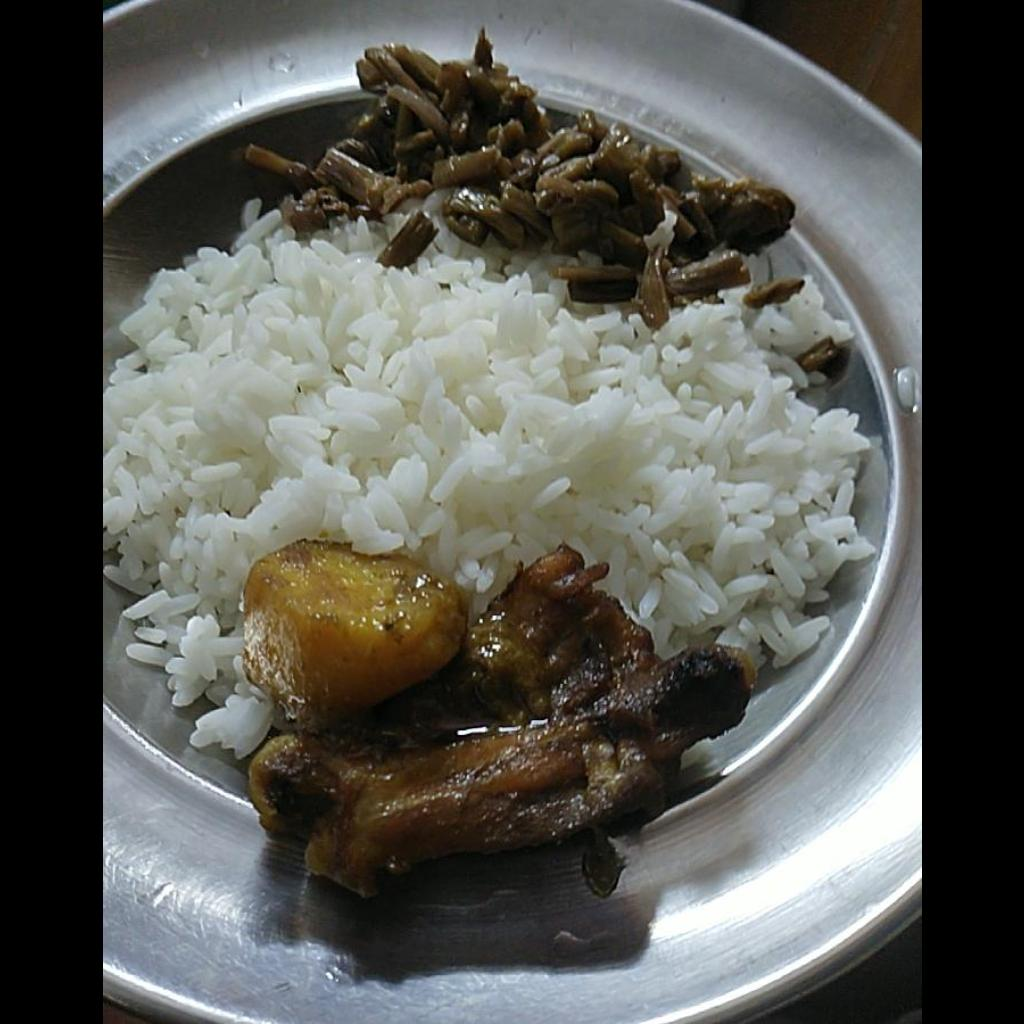chicken: (233, 534, 752, 901)
rice: (107, 207, 876, 762)
vegetable: (251, 29, 798, 326)
